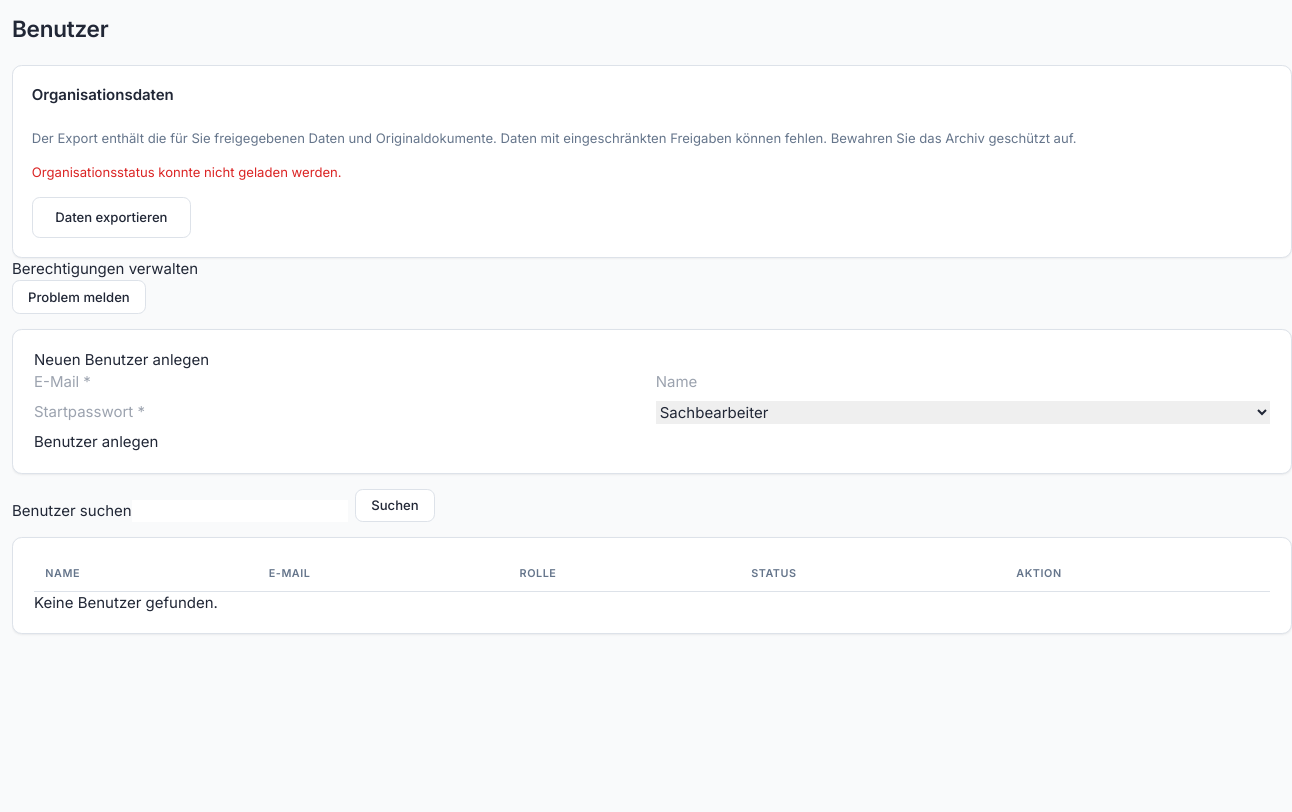
Test: UsersPage error boundaries › shows the real client error without an object or exception prefix: Das Startpasswort erfüllt die Anforderungen nicht.
Type "synthetic@example.de" into the field with placeholder "E-Mail *".
click(341, 383); type("synthetic@example.de")  # box [34, 371, 648, 394]
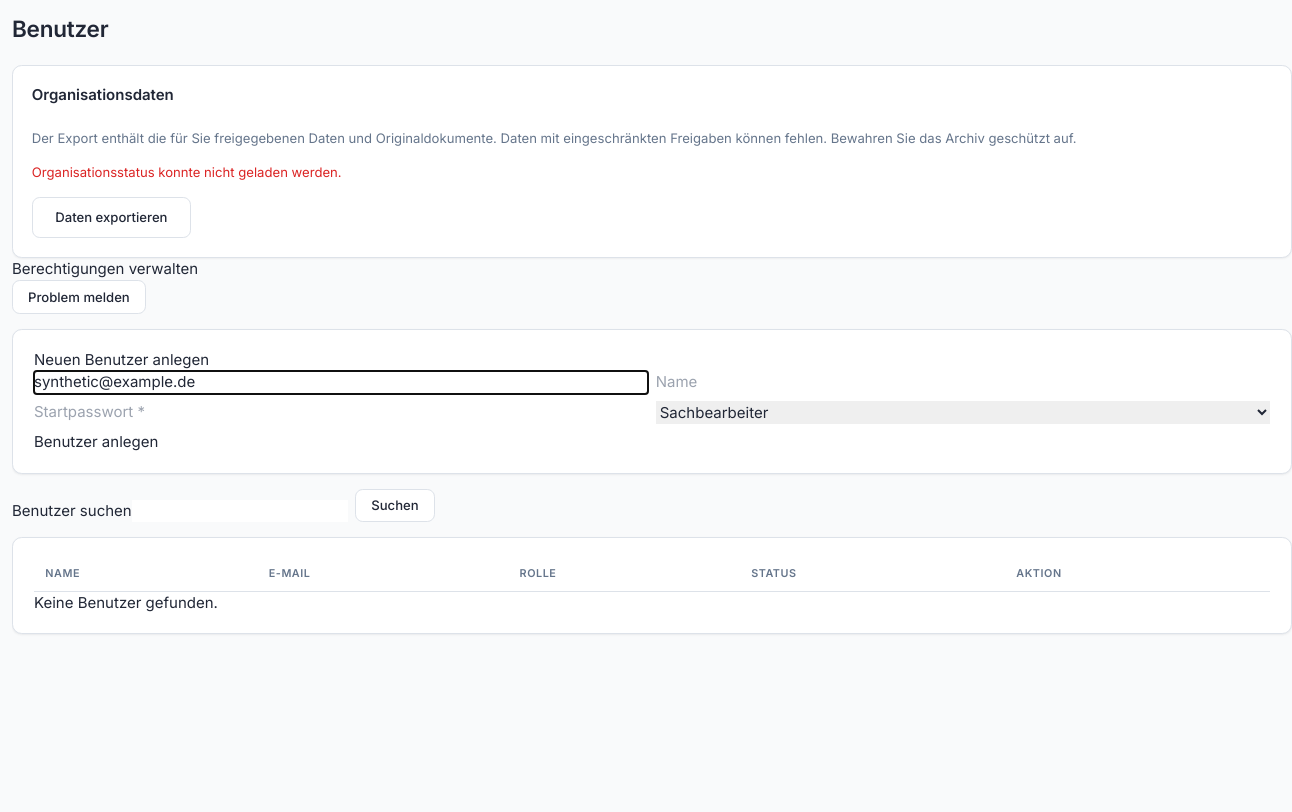
Type "SyntheticPassword123!" into the password field with placeholder "Startpasswort *".
click(341, 413); type("SyntheticPassword123!")  # box [34, 401, 648, 424]
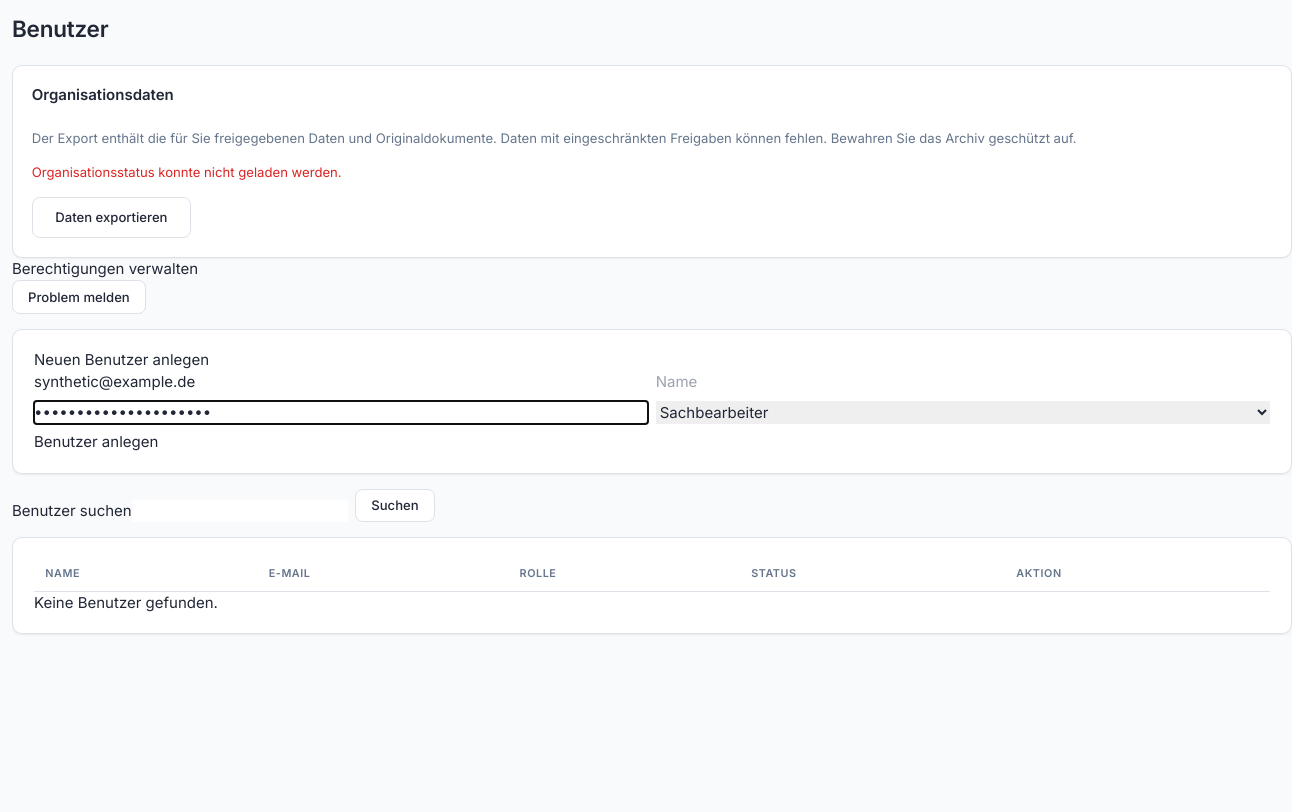
Click the button "Benutzer anlegen".
click(96, 443)  # box [34, 431, 158, 454]
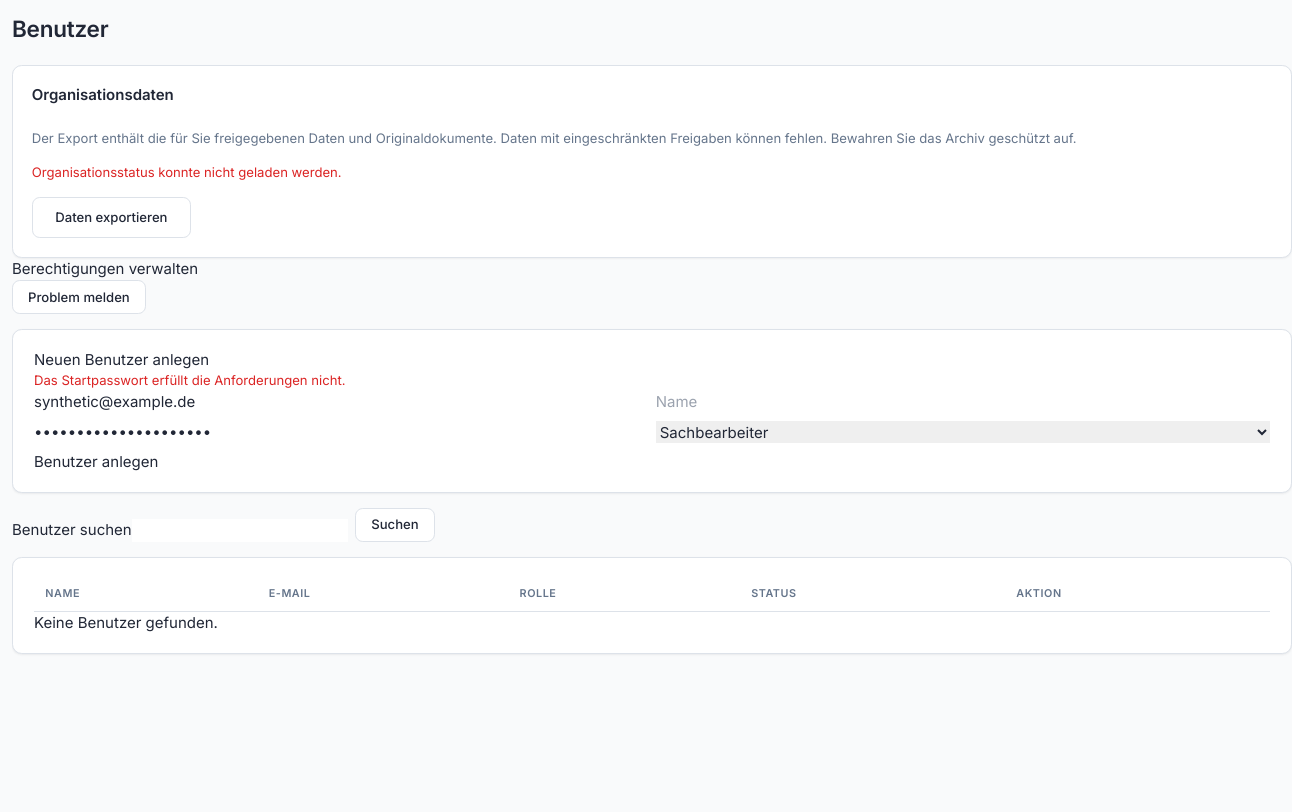
Expected: the button "Benutzer anlegen" is enabled, [34, 451, 158, 473]
Expected: the text "Das Startpasswort erfüllt die Anforderungen nicht." is shown, [34, 372, 346, 388]
